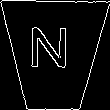N_S: (32, 30, 76, 81)
